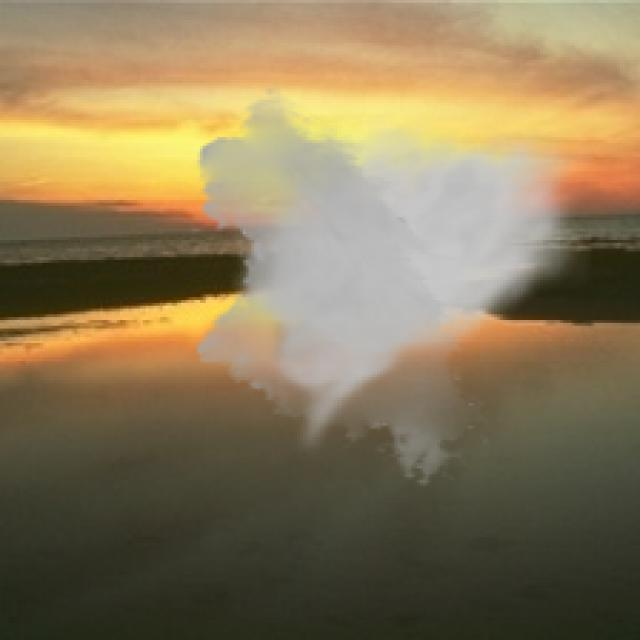Smoke: (186, 86, 592, 488)
